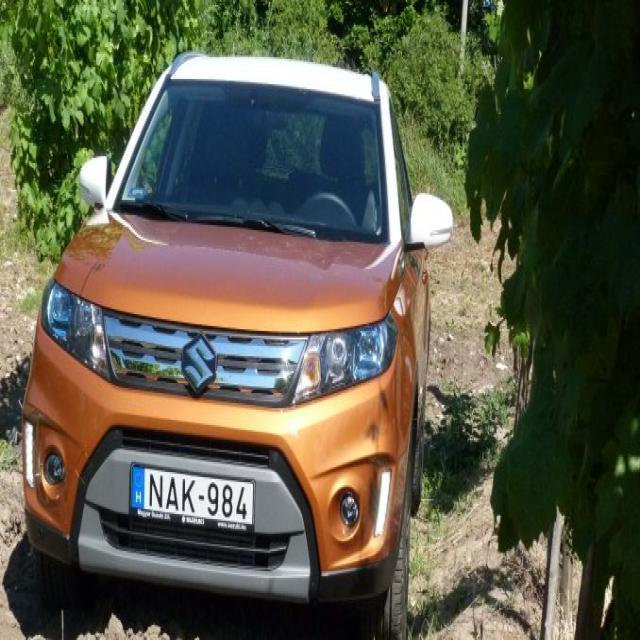licence: (129, 462, 256, 541)
